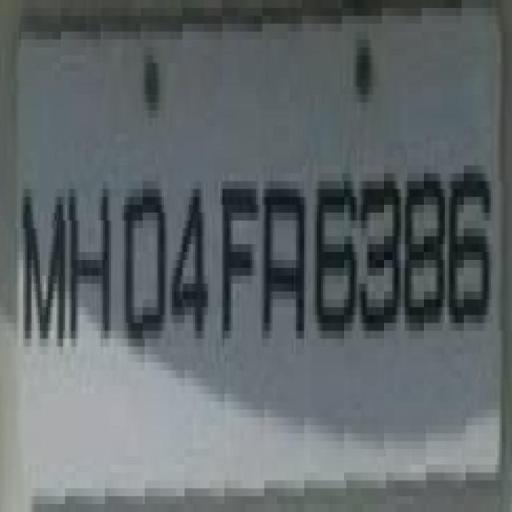number plate: (0, 0, 489, 504)
